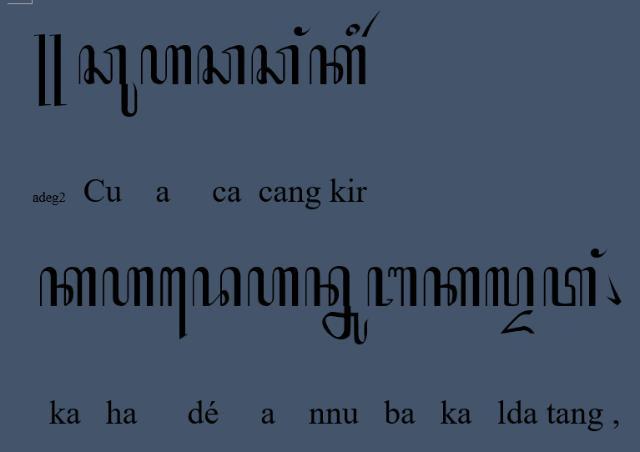_d: (498, 308, 536, 336)
_r1: (362, 8, 382, 38)
adeg2: (32, 33, 68, 107)
b: (368, 265, 418, 309)
c: (250, 44, 300, 86), (197, 44, 246, 86)
cu: (78, 43, 138, 119)
d: (192, 266, 242, 310)
e1: (159, 265, 189, 341)
h: (100, 266, 156, 309), (484, 265, 536, 309), (247, 266, 300, 309), (141, 44, 193, 86)
i: (345, 21, 361, 37)
k: (307, 42, 367, 88), (422, 265, 481, 309), (39, 266, 97, 309)
kom: (604, 270, 622, 306)
ng: (588, 247, 608, 259), (293, 24, 311, 37)
nnu: (304, 266, 370, 346)
t: (542, 266, 598, 309)
